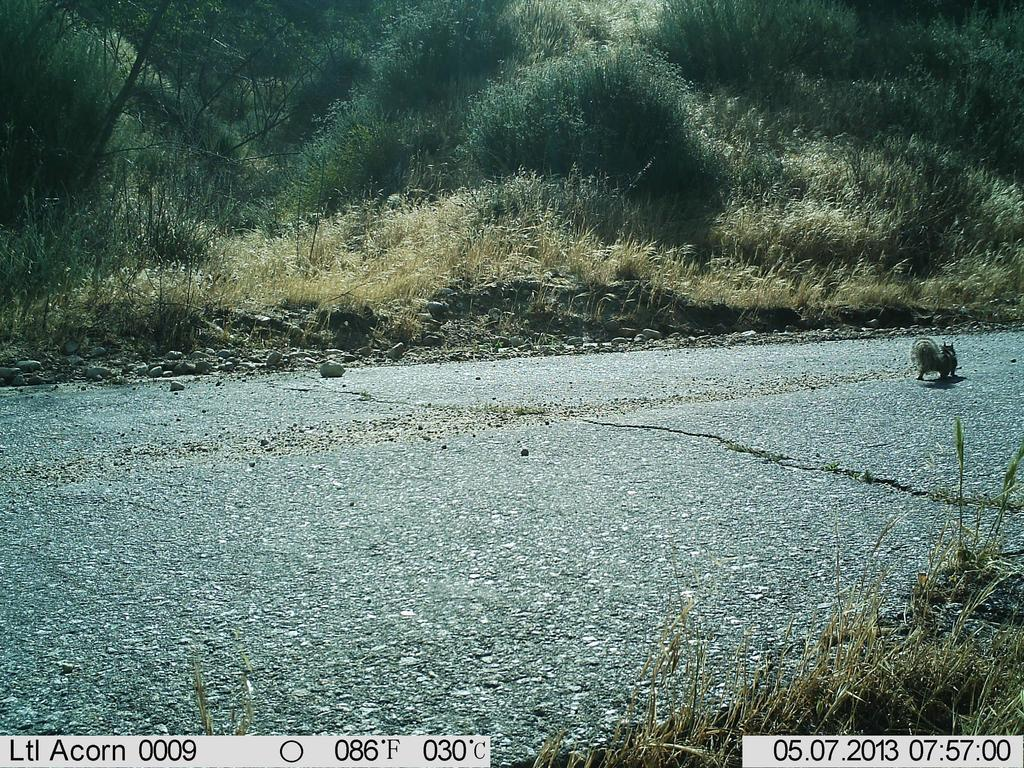squirrel: (886, 318, 1001, 400)
